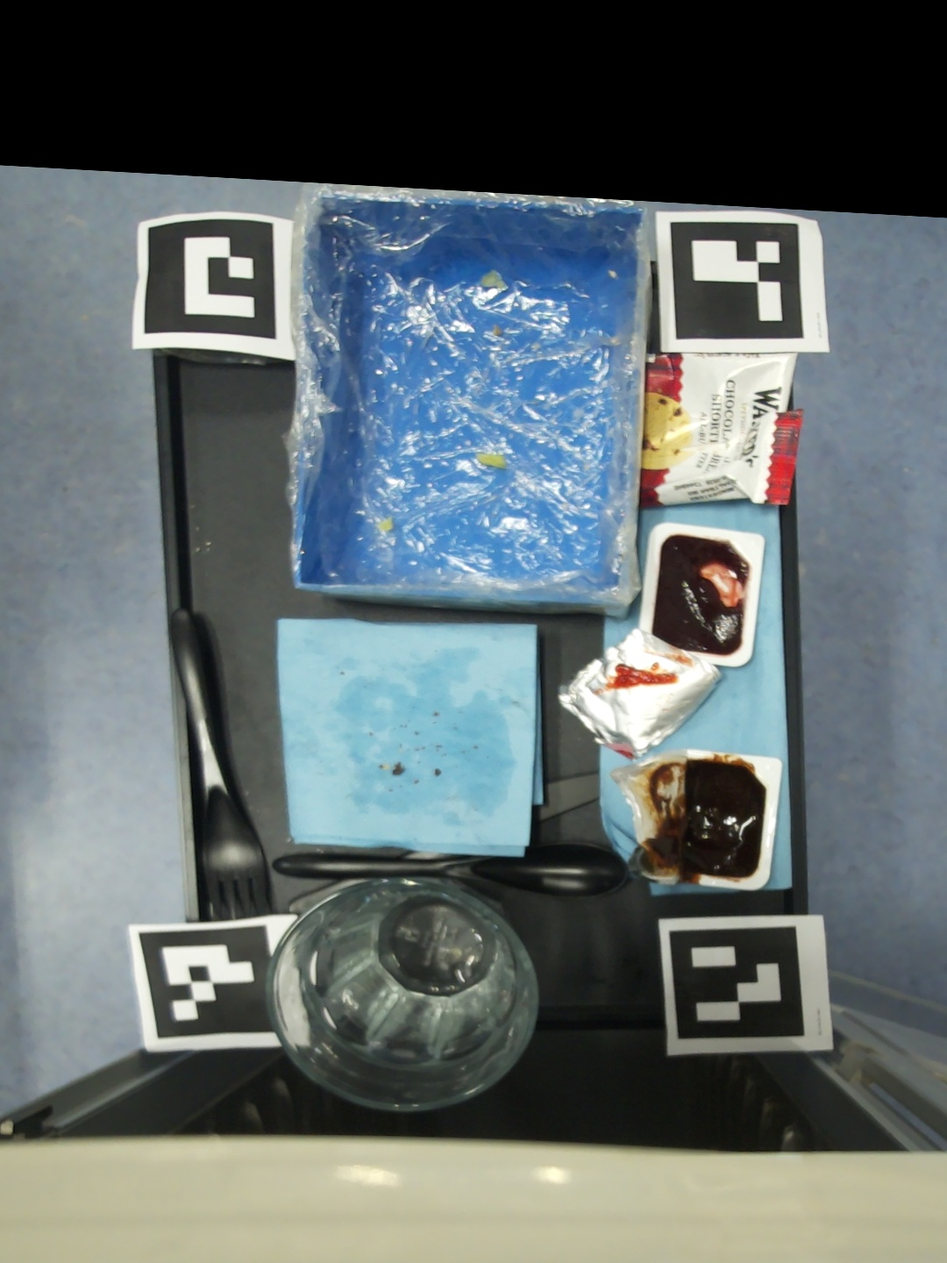brownie: (393, 763, 405, 775), (436, 769, 440, 775)
cherry_jam: (556, 524, 764, 760)
cookie: (640, 353, 805, 507)
plum_jam: (606, 747, 781, 889)
water_bottle: (265, 875, 539, 1112)
wrap_half_1: (475, 452, 506, 468), (480, 270, 506, 286), (378, 517, 392, 532)
